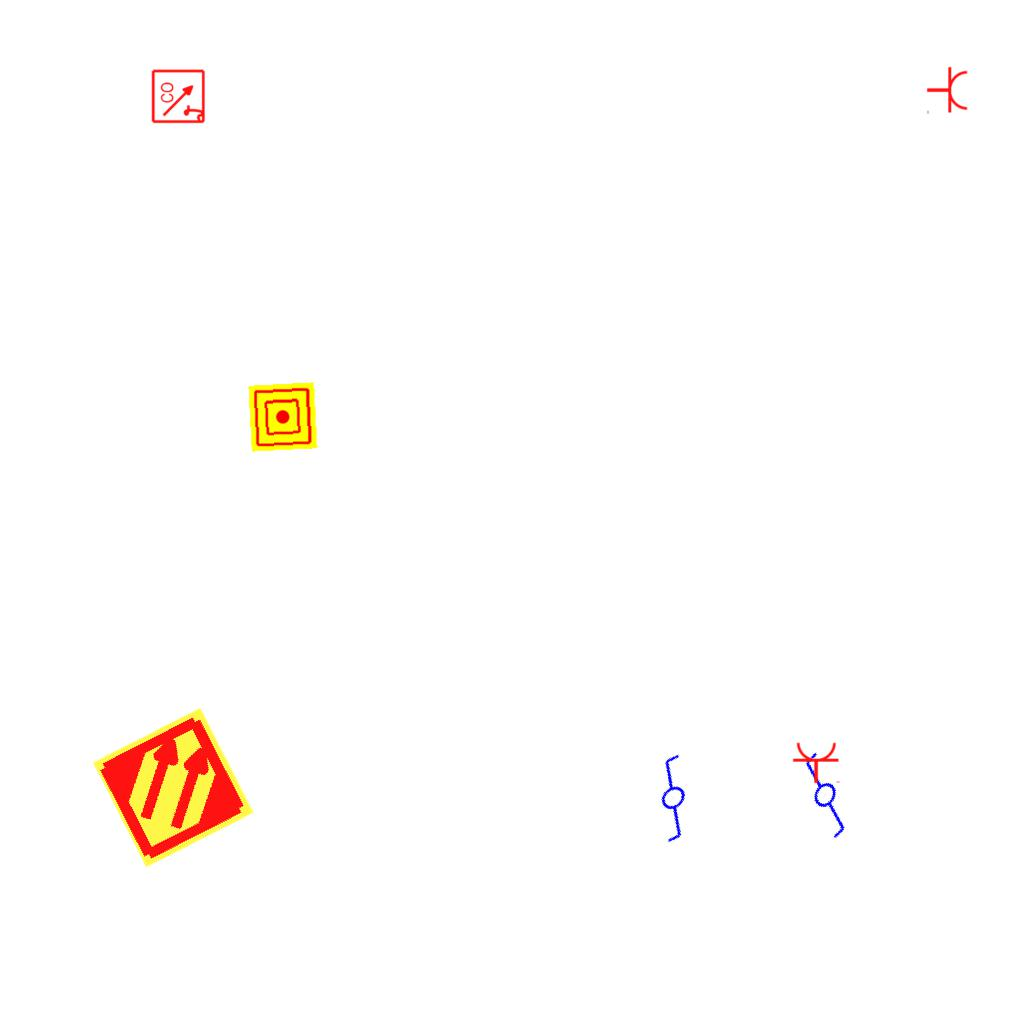ASR_Ansaugrauchmelder: (89, 703, 258, 872)
NAM-Nichtautomatischer_Melder: (248, 382, 318, 452)
ROA_Rauchmelder_optisch_mit_Signalgeber_(Sockelsirene): (151, 68, 207, 124)
Schukosteckdose_einfach: (926, 66, 969, 116), (792, 741, 842, 784)
Wechselschalter: (623, 743, 731, 849), (777, 740, 879, 844)
